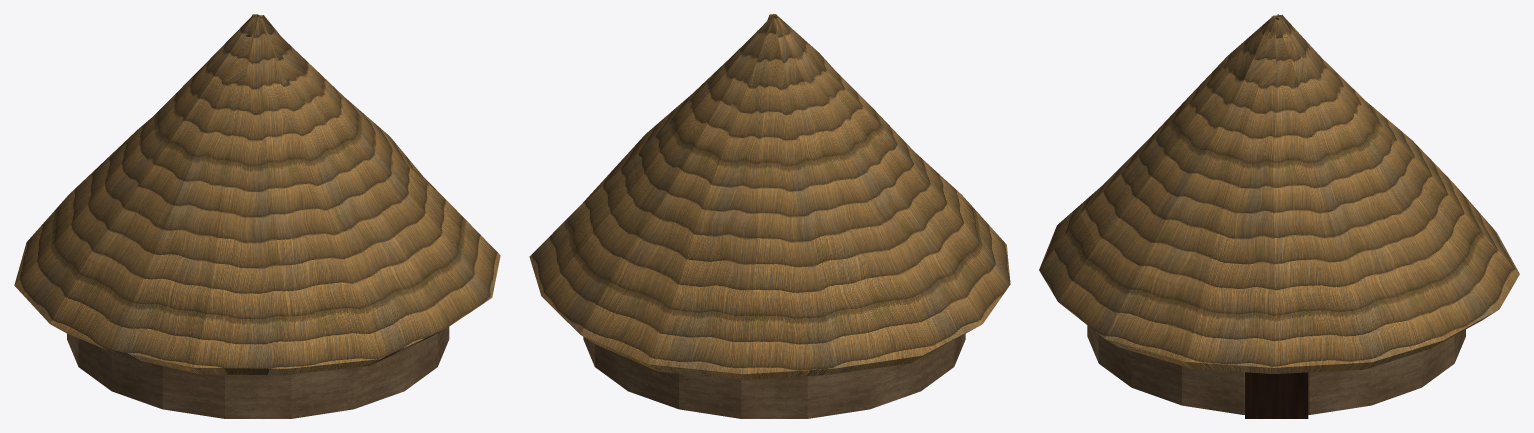
File: capanna_tonda.glb
The picture shows the model from 3 angles, left to right: view 1: azimuth 30°, elevation 25°; view 2: azimuth 150°, elevation 25°; view 3: azimuth 270°, elevation 25°; orthographic projection.
Visible parts, largest first — view 1: capanna_tonda; view 2: capanna_tonda; view 3: capanna_tonda.
Boxes of the visible parts, <box> form: capanna_tonda: <box>14,14,500,418</box>; capanna_tonda: <box>529,14,1010,418</box>; capanna_tonda: <box>1039,14,1519,418</box>.
Bounding box in the file's own units: 7.52 × 5.6 × 7.62.
Materials: 3 (3 with a texture image).
